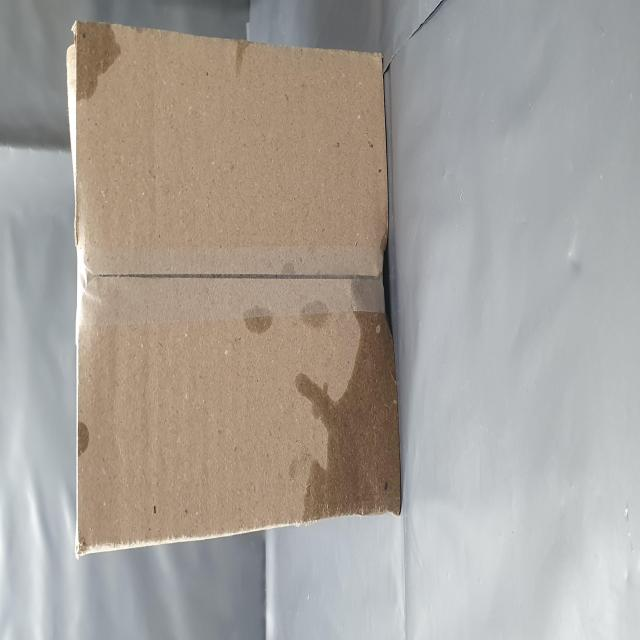wet: (65, 511, 178, 640), (294, 124, 350, 222)
